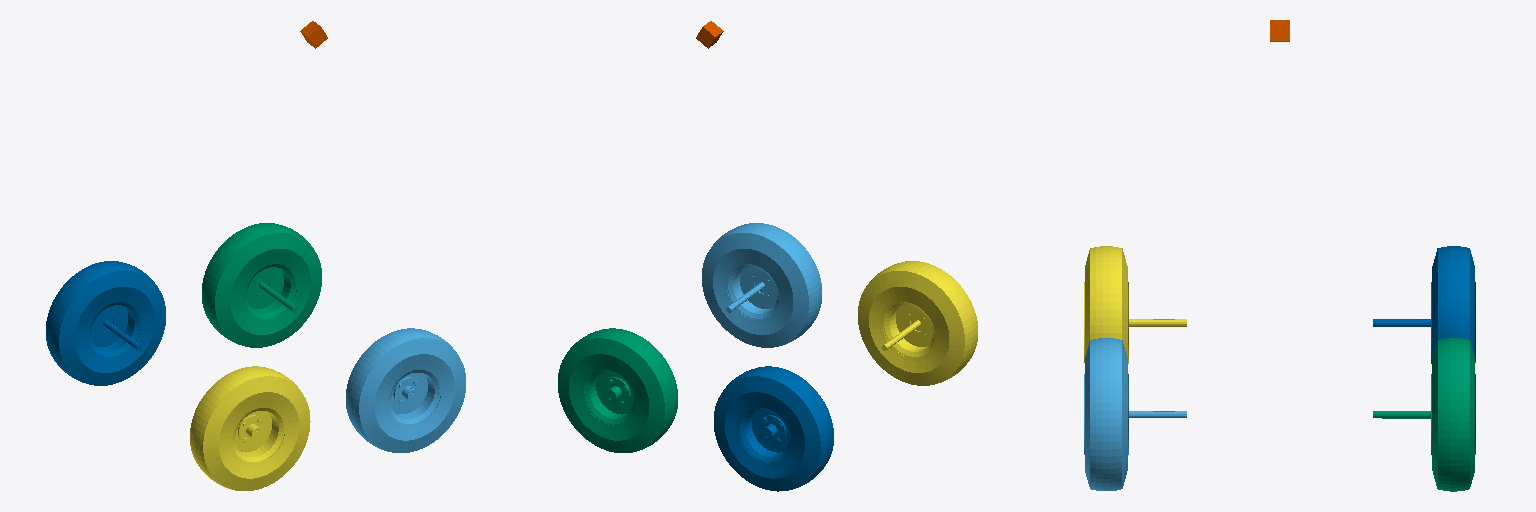
robot.urdf — scipio_simulation:
<?xml version='1.0' encoding='utf-8'?>
<robot name='scipio_simulation'>
  <origin xyz='0 0 0.1' rpy='0 0 1.57'/>
  <link name='base_link'>
    <inertial>
      <origin xyz='0.00808696 0.174209 -5.1079e-07' rpy='0 -0 0'/>
      <mass value='30.6648'/>
      <inertia ixx='2.53655' ixy='-0.0102253' ixz='1.17409e-05' iyy='4.29926' iyz='1.93444e-07' izz='2.13276'/>
    </inertial>
    <collision name='base_link_collision'>
      <origin xyz='0 0 0.5' rpy='0 -0 0'/>
      <geometry>
        <box size='0.7 0.7 0.7'/>
      </geometry>
    </collision>
    <visual name='base_link_visual'>
      <origin xyz='0.049 0.009 0' rpy='0 -0 0'/>
      <geometry>
        <mesh filename='package://scipio_simulation/meshes/base_link.DAE' scale='1 1 1'/>
      </geometry>
    </visual>
  </link>

  <link name='back_left_wheel_link'>
    <origin xyz='0.26746 -0.17757 0.18923' rpy='3.0728 -6.245e-17 -1.5708'/>
    <inertial>
      <origin xyz='0.24702 -3.7896e-07 7.5693e-06' rpy='-1.85822e-34 6.93889e-18 -5.35596e-17'/>
      <mass value='11.018'/>
      <inertia ixx='0.20289' ixy='2.1691e-07' ixz='-4.2814e-06' iyy='0.1147' iyz='3.8435e-08' izz='0.1147'/>
    </inertial>
    <collision name='back_left_wheel_link_collision'>
      <origin xyz='0 0 0' rpy='-1.85822e-34 6.93889e-18 -5.35596e-17'/>
      <geometry>
        <mesh filename='package://scipio_simulation/meshes/back_left_wheel_link.STL' scale='1 1 1'/>
      </geometry>
    </collision>
    <visual name='back_left_wheel_link_visual'>
      <origin xyz='0 0 0' rpy='-1.85822e-34 6.93889e-18 -5.35596e-17'/>
      <geometry>
        <mesh filename='package://scipio_simulation/meshes/back_left_wheel_link.STL' scale='1 1 1'/>
      </geometry>
    </visual>
  </link>
  <link name='back_right_wheel_link'>
    <inertial>
      <origin xyz='0.24702 -2.4732e-06 -7.1639e-06' rpy='0 -0 1.0842e-17'/>
      <mass value='11.018'/>
      <inertia ixx='0.20289' ixy='1.3965e-06' ixz='4.0531e-06' iyy='0.1147' iyz='-2.2566e-07' izz='0.1147'/>
    </inertial>
    <collision name='back_right_wheel_link_collision'>
      <origin xyz='0 0 0' rpy='0 -0 1.0842e-17'/>
      <geometry>
        <mesh filename='package://scipio_simulation/meshes/back_right_wheel_link.STL' scale='1 1 1'/>
      </geometry>
    </collision>
    <visual name='back_right_wheel_link_visual'>
      <origin xyz='0 0 0' rpy='0 -0 1.0842e-17'/>
      <geometry>
        <mesh filename='package://scipio_simulation/meshes/back_right_wheel_link.STL' scale='1 1 1'/>
      </geometry>
    </visual>
  </link>
  <link name='front_left_wheel_link'>
    <inertial>
      <origin xyz='0.24702 -6.9913e-07 7.5465e-06' rpy='-6.93889e-18 -6.93889e-18 -4.42354e-17'/>
      <mass value='11.018'/>
      <inertia ixx='0.20289' ixy='3.9801e-07' ixz='-4.2684e-06' iyy='0.1147' iyz='6.9259e-08' izz='0.1147'/>
    </inertial>
    <collision name='front_left_wheel_link_collision'>
      <origin xyz='0 0 0' rpy='-6.93889e-18 -6.93889e-18 -4.42354e-17'/>
      <geometry>
        <mesh filename='package://scipio_simulation/meshes/front_left_wheel_link.STL' scale='1 1 1'/>
      </geometry>
    </collision>
    <visual name='front_left_wheel_link_visual'>
      <origin xyz='0 0 0' rpy='-6.93889e-18 -6.93889e-18 -4.42354e-17'/>
      <geometry>
        <mesh filename='package://scipio_simulation/meshes/front_left_wheel_link.STL' scale='1 1 1'/>
      </geometry>
    </visual>
  </link>
  <link name='front_right_wheel_link'>
    <inertial>
      <origin xyz='0.24702 -8.6541e-07 -7.5292e-06' rpy='0 -0 7.88757e-18'/>
      <mass value='11.018'/>
      <inertia ixx='0.20289' ixy='4.8698e-07' ixz='4.2592e-06' iyy='0.1147' iyz='-8.183e-08' izz='0.1147'/>
    </inertial>
    <collision name='front_right_wheel_link_collision'>
      <origin xyz='0 0 0' rpy='0 -0 7.88757e-18'/>
      <geometry>
        <mesh filename='package://scipio_simulation/meshes/front_right_wheel_link.STL' scale='1 1 1'/>
      </geometry>
    </collision>
    <visual name='front_right_wheel_link_visual'>
      <origin xyz='0 0 0' rpy='0 -0 7.88757e-18'/>
      <geometry>
        <mesh filename='package://scipio_simulation/meshes/front_right_wheel_link.STL' scale='1 1 1'/>
      </geometry>
    </visual>
  </link>
  <link name='blackfly_mount_link'>
    <origin xyz='0.2 0 1.2' rpy='0 1.04719 0'/>
    <inertial>
      <origin xyz='0 0 0' rpy='0 -0 0'/>
      <mass value='1e-05'/>
      <inertia ixx='1e-06' ixy='0' ixz='0' iyy='1e-06' iyz='0' izz='1e-06'/>
    </inertial>
    <collision name='blackfly_mount_link_collision'>
      <origin xyz='0 0 0' rpy='0 -0 0'/>
      <geometry>
        <box size='0.05 0.05 0.05'/>
      </geometry>
    </collision>
    <visual name='blackfly_mount_link_visual'>
      <origin xyz='0 0 0' rpy='0 -0 0'/>
      <geometry>
        <box size='0.05 0.05 0.05'/>
      </geometry>
    </visual>
  </link>
  <link name='imu_link'>
    <inertial>
      <origin xyz='0 0 0' rpy='0 -0 0'/>
      <mass value='0.001'/>
      <inertia ixx='1e-09' ixy='0' ixz='0' iyy='1e-09' iyz='0' izz='1e-09'/>
    </inertial>
  </link>
  <link name='gps_link'>
    <inertial>
      <origin xyz='0 0 0' rpy='0 -0 0'/>
      <mass value='0.001'/>
      <inertia ixx='1e-09' ixy='0' ixz='0' iyy='1e-09' iyz='0' izz='1e-09'/>
    </inertial>
  </link>
  <link name='laser'>
    <inertial>
      <origin xyz='0 0 0' rpy='0 -0 0'/>
      <mass value='0.001'/>
      <inertia ixx='1e-09' ixy='0' ixz='0' iyy='1e-09' iyz='0' izz='1e-09'/>
    </inertial>
  </link>

  <joint name='back_left_wheel_joint' type='continuous'>
    <origin xyz='0.26746 -0.17757 0.18923' rpy='3.0728 -6.245e-17 -1.5708'/>
    <parent link='base_link'/>
    <child link='back_left_wheel_link'/>
    <axis xyz='-1 0 0'/>
  </joint>

  <joint name='back_right_wheel_joint' type='revolute'>
    <origin xyz='0.26746 0.17757 0.18923' rpy='-3.0192 5.55112e-17 1.5708'/>
    <parent link='base_link'/>
    <child link='back_right_wheel_link'/>
    <axis xyz='1 -4.85996e-12 5.97817e-13'/>
    <limit lower='-1e+16' upper='1e+16' effort='-1' velocity='-1'/>
  </joint>

  <joint name='front_left_wheel_joint' type='revolute'>
    <origin xyz='-0.26746 -0.17757 0.18923' rpy='3.0516 -6.245e-17 -1.5708'/>
    <parent link='base_link'/>
    <child link='front_left_wheel_link'/>
    <axis xyz='-1 -4.87684e-12 -4.40075e-13'/>
    <limit lower='-1e+16' upper='1e+16' effort='-1' velocity='-1'/>
  </joint>

  <joint name='front_right_wheel_joint' type='revolute'>
    <origin xyz='-0.26746 0.17757 0.18923' rpy='-3.1282 5.89806e-17 1.5708'/>
    <parent link='base_link'/>
    <child link='front_right_wheel_link'/>
    <axis xyz='1 -4.89612e-12 6.55769e-14'/>
    <limit lower='-1e+16' upper='1e+16' effort='-1' velocity='-1'/>
  </joint>

  <joint name='blackfly_mount_joint' type='fixed'>
    <origin xyz='0.2 0 1.2' rpy='0 1.04719 0'/>
    <parent link='base_link'/>
    <child link='blackfly_mount_link'/>
   <!-- <axis xyz='-0.500007 0 -0.866022'/> -->
    <axis xyz='-1 0 0'/>
  </joint>

  <joint name='imu_joint' type='revolute'>
    <origin xyz='0 0 0' rpy='0 -0 0'/>
    <parent link='base_link'/>
    <child link='imu_link'/>
    <axis xyz='0 0 1'/>
    <limit lower='0' upper='0' effort='-1' velocity='-1'/>
  </joint>

  <joint name='gps_joint' type='revolute'>
    <origin xyz='0 0 0' rpy='0 -0 0'/>
    <parent link='base_link'/>
    <child link='gps_link'/>
    <axis xyz='0 0 1'/>
    <limit lower='0' upper='0' effort='-1' velocity='-1'/>
  </joint>

  <joint name='laser_joint' type='revolute'>
    <origin xyz='0.428 0 0.485' rpy='0 -0 0'/>
    <parent link='base_link'/>
    <child link='laser'/>
    <axis xyz='0 0 1'/>
    <limit lower='0' upper='0' effort='-1' velocity='-1'/>
  </joint>

  <gazebo reference="laser">
    <sensor type="ray" name="laser">
      <pose>0 0 0 0 0 0</pose>
      <visualize>true</visualize>
      <update_rate>15</update_rate>
      <ray>
        <scan>
          <horizontal>
            <samples>720</samples>
            <resolution>1</resolution>
            <min_angle>-1.570796</min_angle>
            <max_angle>1.570796</max_angle>
          </horizontal>
        </scan>
        <range>
          <min>0.08</min>
          <max>10.0</max>
          <resolution>0.05</resolution>
        </range>
        <noise>
          <type>gaussian</type>
          <!-- Noise parameters based on published spec for Hokuyo laser
               achieving "+-30mm" accuracy at range < 10m.  A mean of 0.0m and
               stddev of 0.01m will put 99.7% of samples within 0.03m of the true
               reading. -->
          <mean>0.0</mean>
          <stddev>0.01</stddev>
        </noise>
      </ray>
      <plugin name="gazebo_ros_laser" filename="libgazebo_ros_laser.so">
        <topicName>scan</topicName>
        <frameName>laser</frameName>
      </plugin>
    </sensor>
  </gazebo>

    <gazebo>
        <plugin name="skid_steer_drive_controller" filename="libgazebo_ros_skid_steer_drive.so">
            <updateRate>35.0</updateRate>
            <robotNamespace>/</robotNamespace>
            <leftFrontJoint>back_right_wheel_joint</leftFrontJoint>
            <rightFrontJoint>back_left_wheel_joint</rightFrontJoint>
            <leftRearJoint>front_right_wheel_joint</leftRearJoint>
            <rightRearJoint>front_left_wheel_joint</rightRearJoint>
            <wheelSeparation>0.854431</wheelSeparation>
            <wheelDiameter>0.379476</wheelDiameter>
            <robotBaseFrame>base_footprint</robotBaseFrame>
            <torque>40</torque>
            <commandTopic>cmd_vel</commandTopic>
            <odometryTopic>raw_odom</odometryTopic>
            <odometryFrame>odom</odometryFrame>
        </plugin>
    </gazebo>

    <gazebo>
        <plugin name="gps_controller" filename="libhector_gazebo_ros_gps.so">
            <updateRate>40</updateRate>
            <robotNamespace>/</robotNamespace>
            <bodyName>gps_link</bodyName>
            <frameId>base_footprint</frameId>
            <topicName>fix</topicName>
            <velocityTopicName>/navsat/vel</velocityTopicName>
            <referenceLatitude>49.9</referenceLatitude>
            <referenceLongitude>8.9</referenceLongitude>
            <referenceHeading>0</referenceHeading>
            <referenceAltitude>0</referenceAltitude>
            <drift>0.0000 0.0000 0.0000</drift>
        </plugin>
    </gazebo>

    <gazebo>
    <plugin name="imu_controller" filename="libhector_gazebo_ros_imu.so">
        <robotNamespace>/</robotNamespace>
        <updateRate>50.0</updateRate>
        <bodyName>base_link</bodyName>
        <topicName>imu/data</topicName>
        <accelDrift>0.00 0.00 0.00</accelDrift>
        <accelGaussianNoise>0.00 0.00 0.00</accelGaussianNoise>
        <rateDrift>0.00 0.00 0.00</rateDrift>
        <rateGaussianNoise>0.00 0.00 0.00 </rateGaussianNoise>
        <headingDrift>0.00</headingDrift>
        <headingGaussianNoise>0.00</headingGaussianNoise>
    </plugin>
    </gazebo>

    <gazebo reference="blackfly_mount_link">
    <sensor type="camera" name="blackfly_camera">
      <update_rate>20</update_rate>
      <camera name="head">
        <horizontal_fov>2.09</horizontal_fov>
        <image>
          <width>1280</width>
          <height>960</height>
          <format>R8G8B8</format>
        </image>
        <clip>
          <near>0.02</near>
          <far>300</far>
        </clip>
        <noise>
          <type>gaussian</type>
          <!-- Noise is sampled independently per pixel on each frame.
               That pixel's noise value is added to each of its color
               channels, which at that point lie in the range [0,1]. -->
          <mean>0.0</mean>
          <stddev>0.007</stddev>
        </noise>
      </camera>
      <plugin name="camera_controller" filename="libgazebo_ros_camera.so">
        <alwaysOn>true</alwaysOn>
        <updateRate>0.0</updateRate>
        <cameraName>camera</cameraName>
        <imageTopicName>image_raw</imageTopicName>
        <cameraInfoTopicName>camera_info</cameraInfoTopicName>
        <frameName>blackfly_mount_link</frameName>
        <hackBaseline>0.07</hackBaseline>
        <distortionK1>0.0</distortionK1>
        <distortionK2>0.0</distortionK2>
        <distortionK3>0.0</distortionK3>
        <distortionT1>0.0</distortionT1>
        <distortionT2>0.0</distortionT2>
      </plugin>
    </sensor>
  </gazebo>

</robot>

--- What the picture shows (computed from the rendered views, not written in the file) ---
3 views of the same robot in one strip: view 1: azimuth 30°, elevation 25°; view 2: azimuth 150°, elevation 25°; view 3: azimuth 270°, elevation 25° (orthographic).
Model scipio_simulation with 9 links and 8 joints (6 revolute, 1 continuous, 1 fixed), rooted at base_link, posed every joint at zero.
Visible links, largest first — view 1: back_right_wheel_link, front_right_wheel_link, front_left_wheel_link, back_left_wheel_link; view 2: back_left_wheel_link, front_left_wheel_link, front_right_wheel_link, back_right_wheel_link; view 3: back_right_wheel_link, back_left_wheel_link, front_left_wheel_link, front_right_wheel_link.
Boxes of the visible links, box(x1,y1,x2,y2) form: back_right_wheel_link: box(202, 223, 321, 347); front_right_wheel_link: box(46, 261, 165, 385); front_left_wheel_link: box(190, 366, 310, 490); back_left_wheel_link: box(346, 328, 465, 452); back_left_wheel_link: box(702, 223, 821, 347); front_left_wheel_link: box(858, 261, 977, 385); front_right_wheel_link: box(714, 366, 833, 491); back_right_wheel_link: box(558, 328, 677, 452); back_right_wheel_link: box(1373, 338, 1475, 491); back_left_wheel_link: box(1084, 338, 1186, 490); front_left_wheel_link: box(1084, 246, 1186, 363); front_right_wheel_link: box(1373, 246, 1475, 363).
Size in the robot's own frame: 0.9137 by 0.9666 by 1.23 metres.
4 mesh visuals loaded from 5 distinct referenced files (4 binary STL); not drawn: 1 (reference not matched to a file when rendering).
